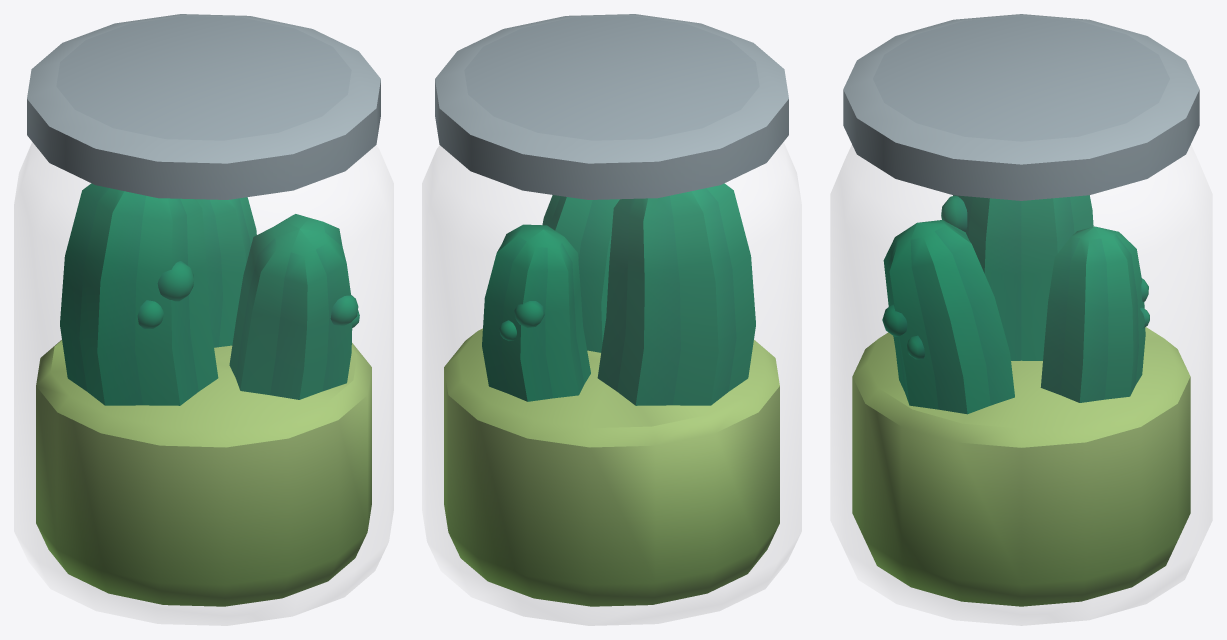
File: pickle_jar.gltf
3 views of the same model, side by side, from view 1: azimuth 30°, elevation 25°; view 2: azimuth 150°, elevation 25°; view 3: azimuth 270°, elevation 25° (orthographic).
Parts seen in each view (by area): view 1: pickle_jar; view 2: pickle_jar; view 3: pickle_jar.
Part boxes in pixels (x1,y1,x2,y2): pickle_jar: (14,14,393,625); pickle_jar: (422,14,801,625); pickle_jar: (831,14,1211,625).
Size of the model in its own units: 0.4 by 0.56 by 0.4.
Materials: 2 (1 with a texture image).
